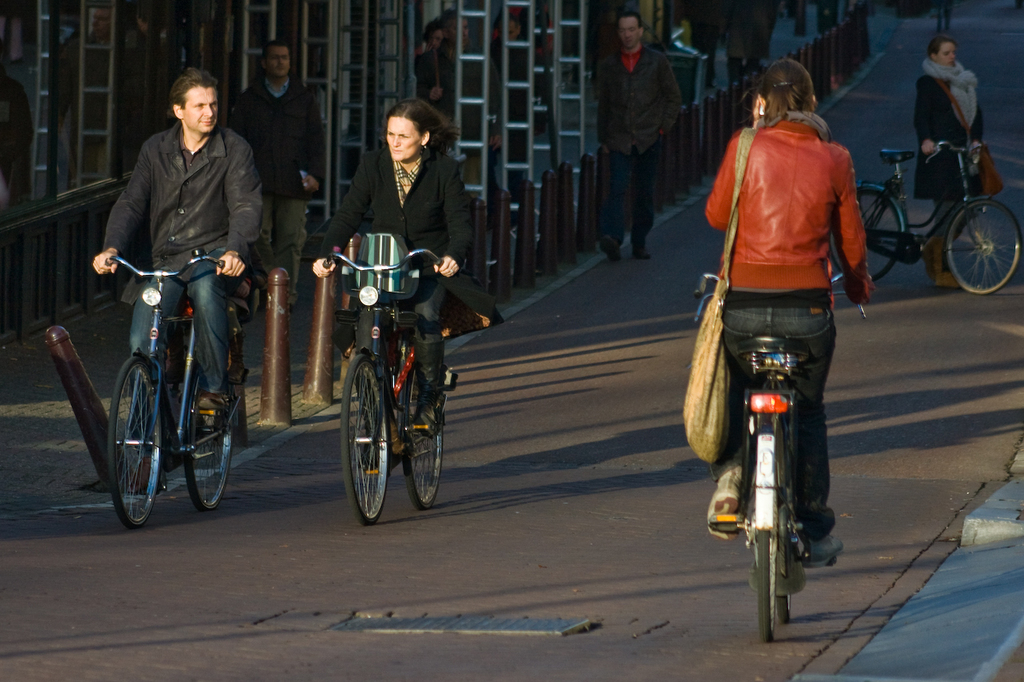Bike: (647, 269, 895, 682), (305, 271, 438, 528)
